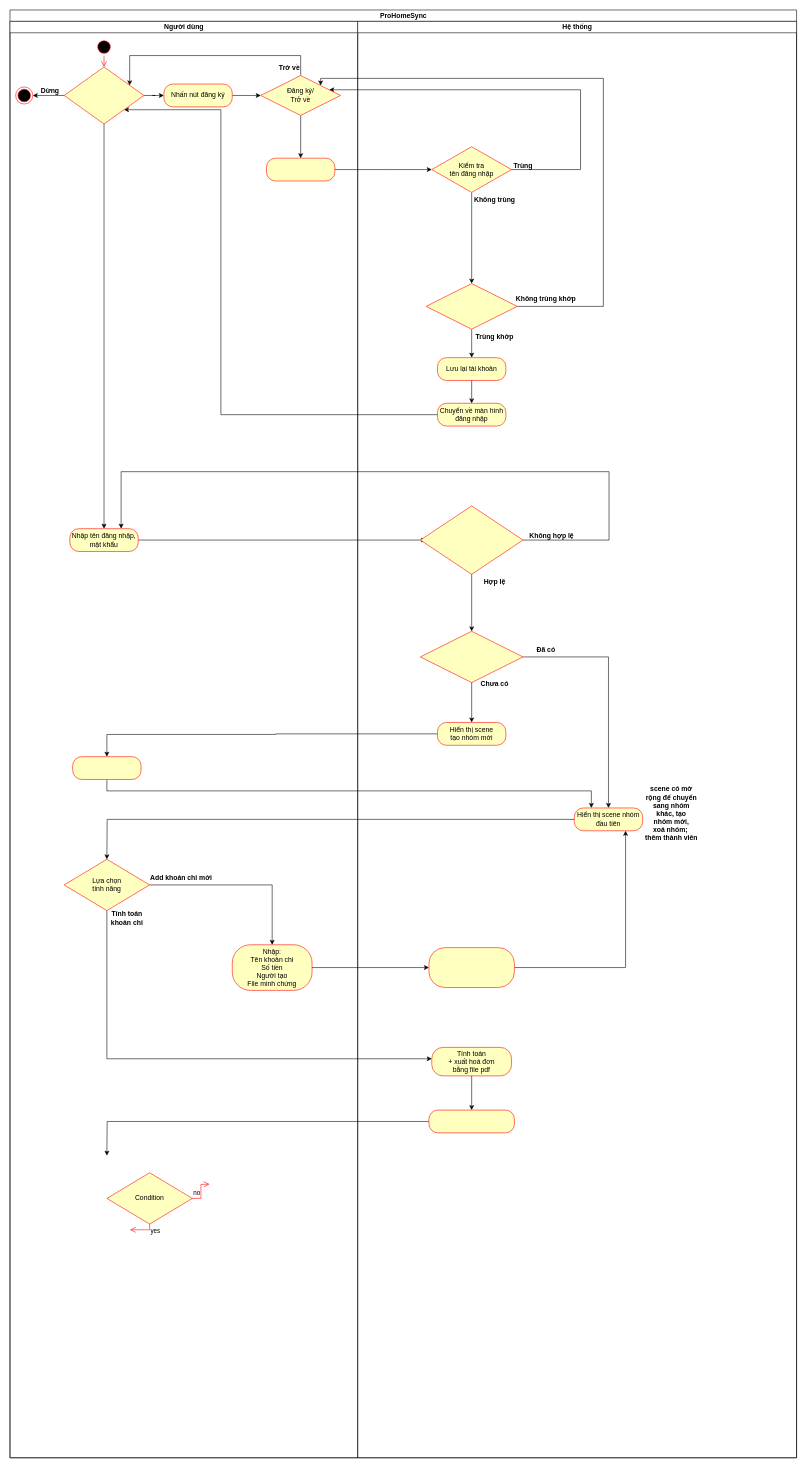
Image size: 807x1468. Some labels were removed from this diagram. Here are the shapes that lost their labels. From the top down, the centre of each, then its label:
the point at 104,95: Đăng nhập/Đăng ký
the point at 300,169: Nhập tên đăng nhập, 2 lần mật khẩu
the point at 471,306: Kiểm tra 2 mk trùng nhau
the point at 471,539: Đối chiếu tên đăng nhập, mật khẩu trong file
the point at 471,657: Kiểm tra đã có nhóm hay chưa
the point at 106,767: Nhập tên nhóm, nhấn nút tạo
the point at 471,967: Lưu lại các thông tin + ngày tạo realtime; sắp xếp theo thứ tự thêm
the point at 471,1121: Lưu file vào hệ thống
